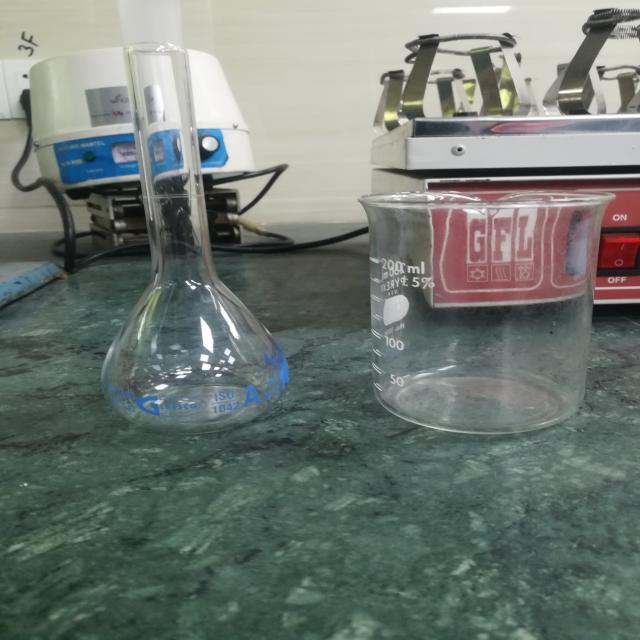Beaker: (347, 170, 619, 450)
Volumetric_Flask: (63, 0, 318, 456)
